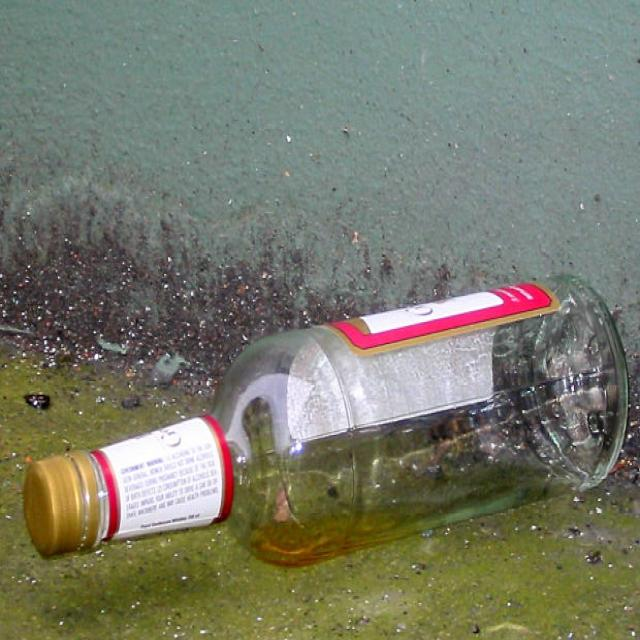glass: (22, 256, 613, 568)
